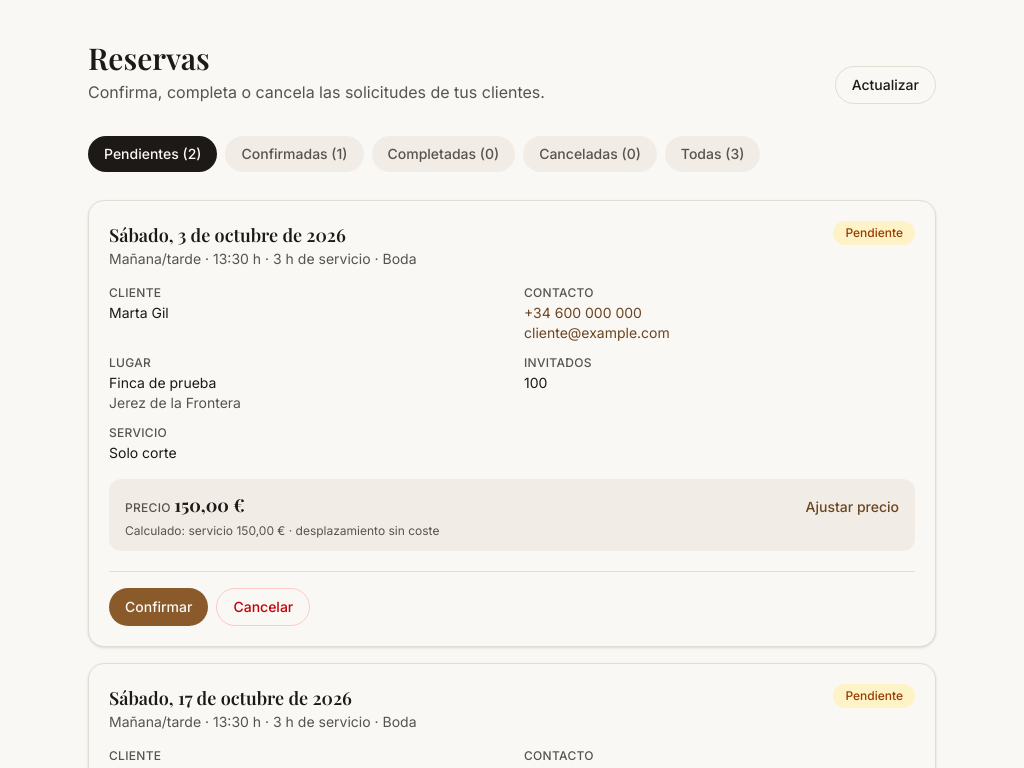
it: AdminDashboard › al cambiar de pestaña, filtra la lista por ese estado
What coordinates should you click on to do the following:
click the button "Confirmadas (1)"
I would click on:
 (294, 154)
Its box is x1=226 y1=136 x2=364 y2=172.
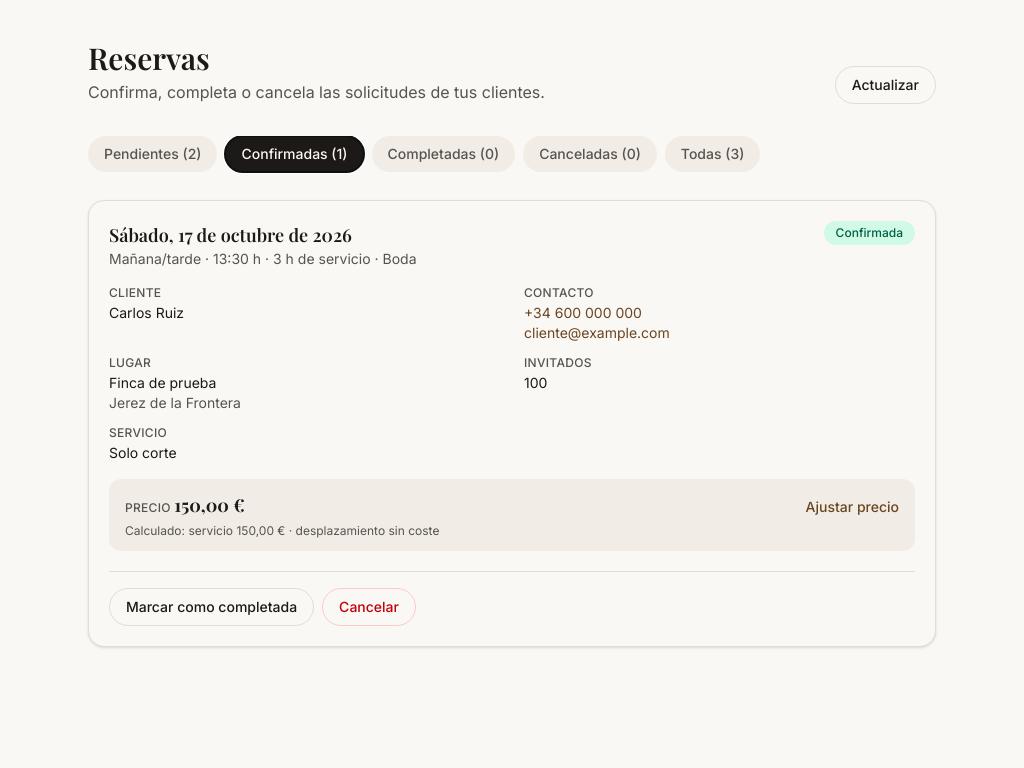
expect the text "Lucía Moreno" is not shown: met
expect the text "Carlos Ruiz" is shown: met, box x1=109 y1=304 x2=184 y2=321
